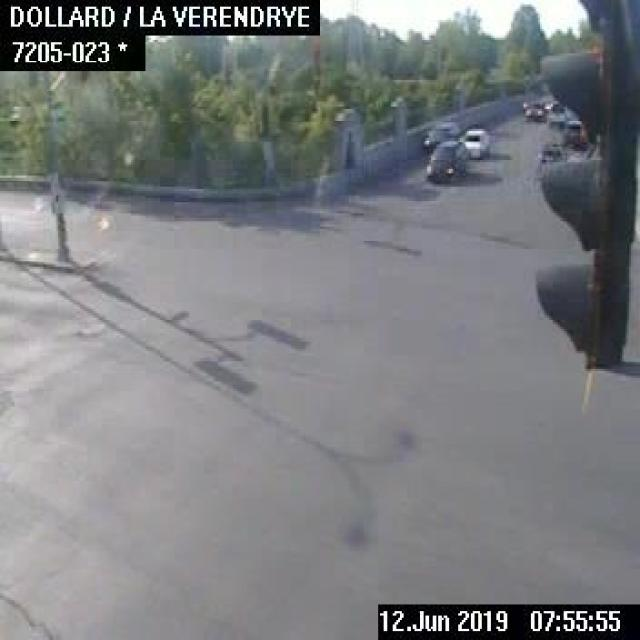vehicle: (422, 140, 467, 180), (460, 126, 491, 160), (423, 120, 461, 140), (563, 118, 586, 144), (535, 140, 566, 158), (522, 100, 546, 122)
